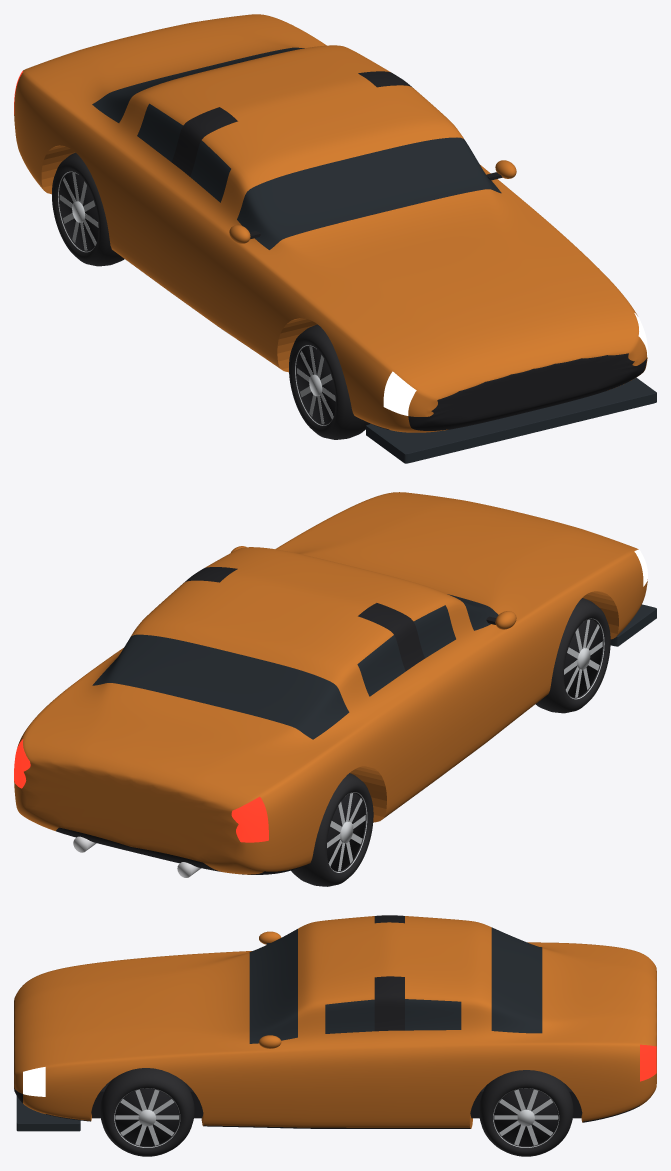
File: car_emberline_gp.glb
The picture shows the model from 3 angles, top to bottom: view 1: azimuth 30°, elevation 25°; view 2: azimuth 150°, elevation 25°; view 3: azimuth 270°, elevation 25°; orthographic projection. The views are drawn at different scales.
Visible parts, largest first — view 1: Body, WheelMesh_Wheel_Front_R, WheelMesh_Wheel_Rear_R; view 2: Body, WheelMesh_Wheel_Rear_R, WheelMesh_Wheel_Front_R; view 3: Body, WheelMesh_Wheel_Front_L, WheelMesh_Wheel_Rear_L.
Boxes of the visible parts, box(x1,y1,x2,y2) form: Body: box(14, 14, 656, 463); WheelMesh_Wheel_Front_R: box(289, 324, 370, 439); WheelMesh_Wheel_Rear_R: box(51, 152, 124, 266); Body: box(14, 492, 656, 877); WheelMesh_Wheel_Rear_R: box(291, 773, 373, 886); WheelMesh_Wheel_Front_R: box(535, 598, 610, 713); Body: box(14, 915, 656, 1131); WheelMesh_Wheel_Front_L: box(100, 1068, 194, 1156); WheelMesh_Wheel_Rear_L: box(479, 1070, 573, 1156).
Size of the model in its own units: 1.95 by 1.33 by 4.82.
